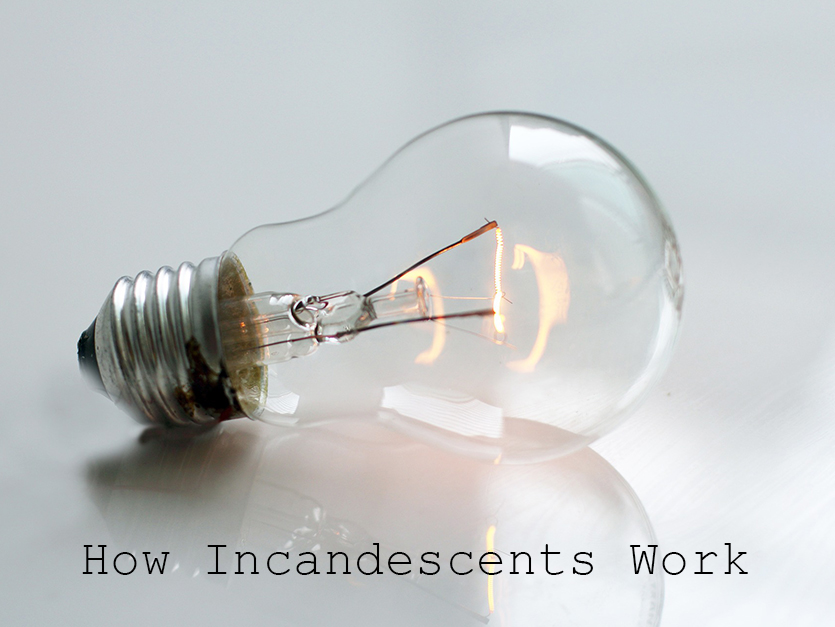Nonrec_Glass: (63, 95, 701, 489)
